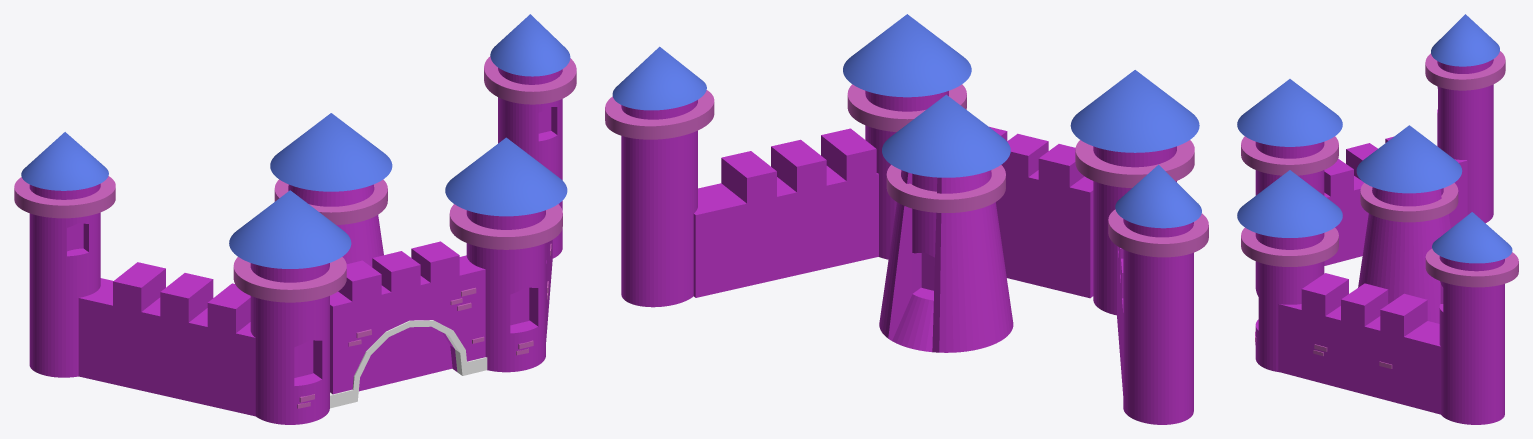
File: kale.fbx
The picture shows the model from 3 angles, left to right: view 1: azimuth 30°, elevation 25°; view 2: azimuth 150°, elevation 25°; view 3: azimuth 270°, elevation 25°; orthographic projection. The views are drawn at different scales.
Parts seen in each view (by area): view 1: Cube.006, Cube, Cylinder.006, Cylinder.003, Cylinder, Cone, Cone.002, Cone.001, Cylinder.009, Cone.003, Cone.004, Cylinder.002 (+7 smaller); view 2: Cube.005, Cylinder.004, Cylinder.009, Cube, Cylinder.006, Cone.002, Cone, Cone.001, Cylinder.003, Cone.004, Cone.003, Cylinder.005 (+6 smaller); view 3: Cube.005, Cylinder.009, Cylinder.004, Cylinder.006, Cone.002, Cone.001, Cone, Cylinder, Cube.006, Cone.004, Cone.003, Cylinder.001 (+5 smaller).
Boxes of the visible parts, x1,y1,x2,y2 form: Cube.006: (78,262,255,416); Cube: (330,241,485,394); Cylinder.006: (29,183,100,377); Cylinder.003: (250,263,329,424); Cylinder: (466,210,545,372); Cone: (445,137,567,216); Cone.002: (270,113,392,191); Cone.001: (229,190,351,268); Cylinder.009: (498,67,562,258); Cone.003: (21,132,108,190); Cone.004: (490,14,570,76); Cylinder.002: (233,257,346,302); Cube.005: (693,128,878,297); Cylinder.004: (879,170,1013,352); Cylinder.009: (621,100,697,307); Cube: (989,126,1093,298); Cylinder.006: (1123,219,1193,424); Cone.002: (882,94,1010,177); Cone: (843,14,971,97); Cone.001: (1070,70,1199,152); Cylinder.003: (1093,146,1176,315); Cone.004: (612,46,706,110); Cone.003: (1115,164,1201,228); Cylinder.005: (886,165,1005,212); Cube.005: (1278,273,1440,414); Cylinder.009: (1439,256,1504,424); Cylinder.004: (1358,187,1450,323); Cylinder.006: (1437,59,1493,223); Cone.002: (1356,125,1462,193); Cone.001: (1237,79,1342,146); Cone: (1237,170,1342,237); Cylinder: (1255,233,1324,371); Cube.006: (1324,136,1467,265); Cone.004: (1432,212,1512,263); Cone.003: (1431,14,1499,66); Cylinder.001: (1241,227,1338,266).
Bounding box in the file's own units: 533 × 420 × 1046.
